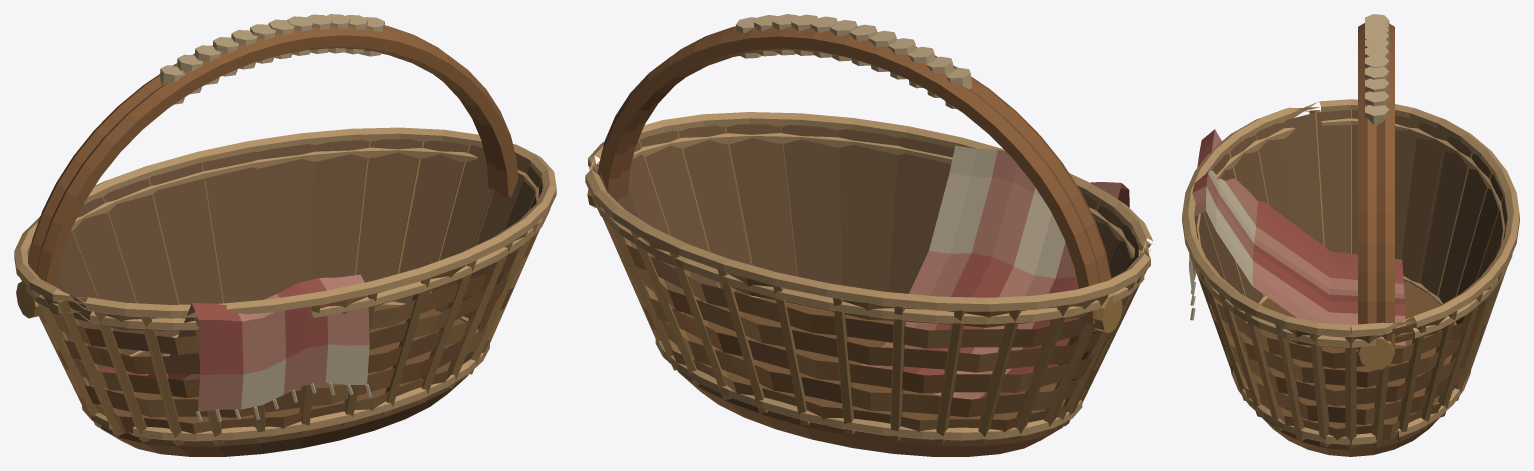
File: shopping_basket.glb
3 renders of one model, left to right at view 1: azimuth 30°, elevation 25°; view 2: azimuth 150°, elevation 25°; view 3: azimuth 270°, elevation 25°, orthographic. The views are drawn at different scales.
Parts seen in each view (by area): view 1: shopping_basket; view 2: shopping_basket; view 3: shopping_basket.
Boxes of the visible parts, <box> form: shopping_basket: <box>14,14,556,456</box>; shopping_basket: <box>585,14,1152,456</box>; shopping_basket: <box>1182,14,1519,456</box>.
Bounding box in the file's own units: 1.5 × 1.02 × 0.926.
